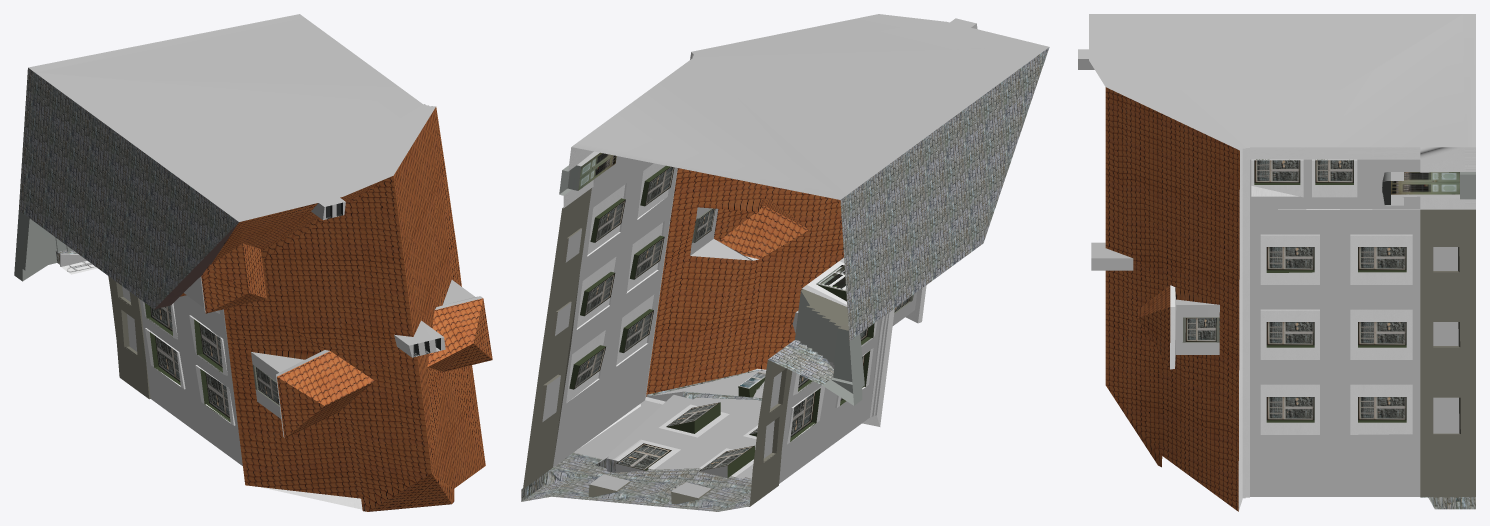
Rendered from Myyrivahe_41-origo.obj.
3 renders of one model, left to right at view 1: azimuth 30°, elevation 25°; view 2: azimuth 150°, elevation 25°; view 3: azimuth 270°, elevation 25°, orthographic. The views are drawn at different scales.
Parts seen in each view (by area): view 1: Myyrivahe_41; view 2: Myyrivahe_41; view 3: Myyrivahe_41.
Part boxes in pixels (x1,y1,x2,y2): Myyrivahe_41: (14,14,492,511); Myyrivahe_41: (521,14,1049,511); Myyrivahe_41: (1078,14,1475,511).
Size of the model in its own units: 14 by 15 by 15.39.
